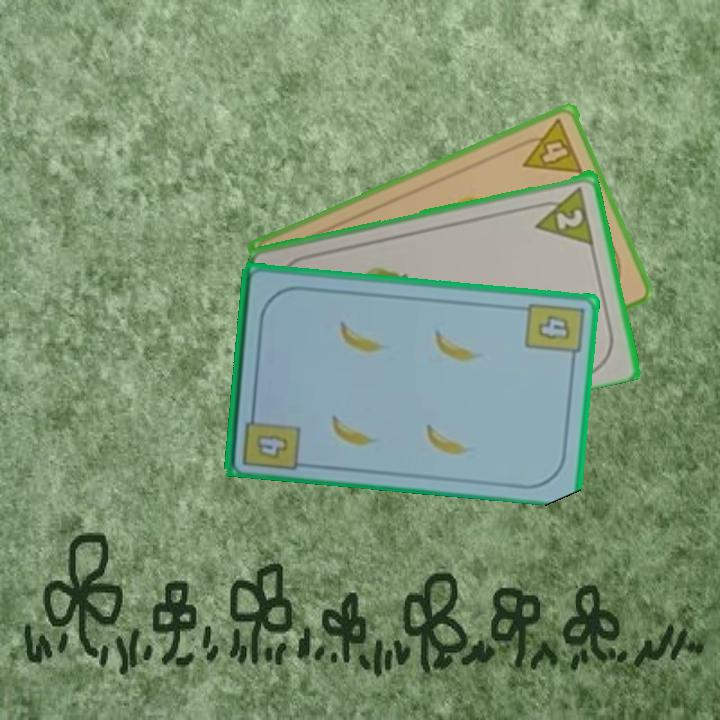2p: (528, 182, 597, 246)
4b: (239, 403, 302, 472), (522, 299, 586, 365)
4p: (513, 115, 586, 177)
